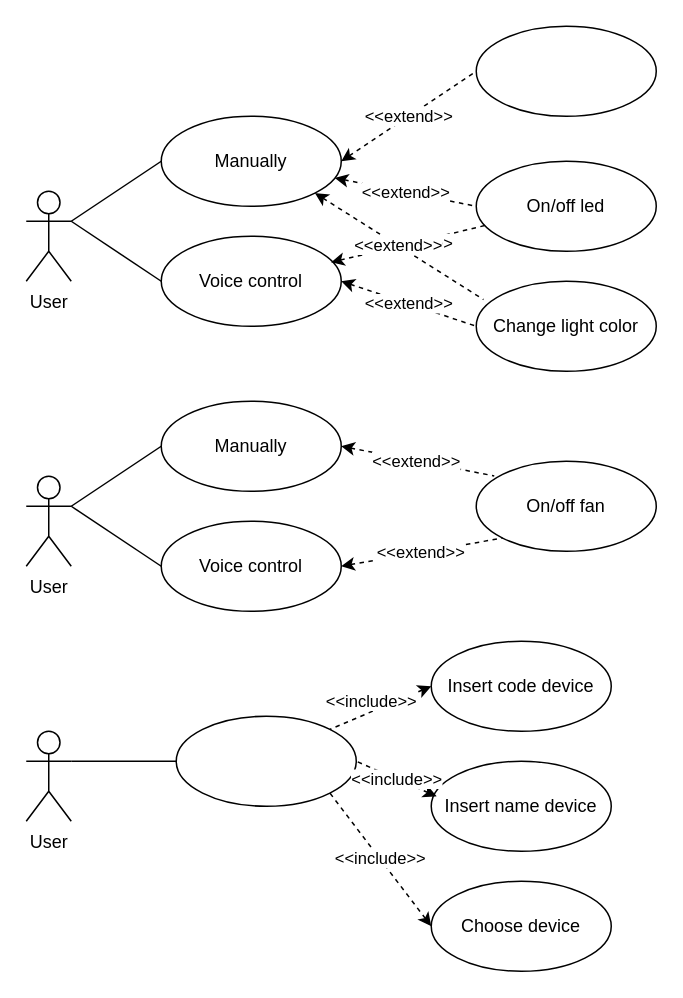
The diagram is 683 pixels wide and 998 high, and some of its shapes have lost their labels. Each missing label, with the centre of its shape:
"Add device" belongs at point 265,760.
"Realtime mode" belongs at point 565,70.
